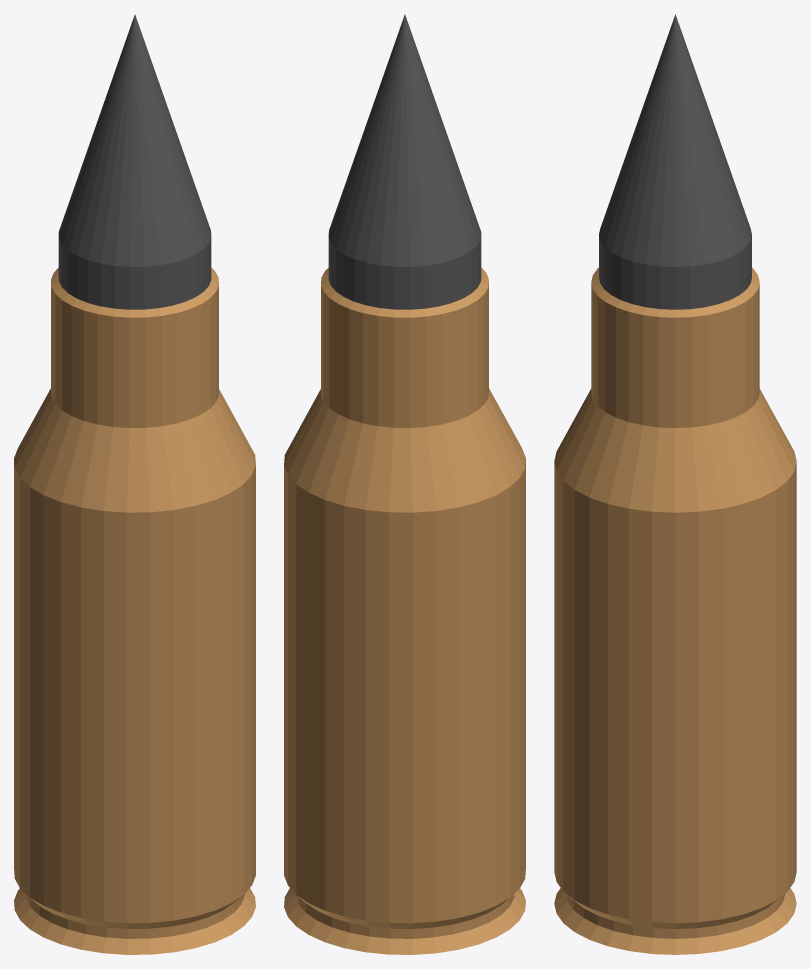
The model's file is minigun_bullet.glb.
The picture shows the model from 3 angles, left to right: view 1: azimuth 30°, elevation 25°; view 2: azimuth 150°, elevation 25°; view 3: azimuth 270°, elevation 25°; orthographic projection.
Parts seen in each view (by area): view 1: Circle; view 2: Circle; view 3: Circle.
Boxes of the visible parts, left/top/right/bottom form: Circle: left=14, top=14, right=255, bottom=954; Circle: left=284, top=14, right=525, bottom=954; Circle: left=554, top=14, right=796, bottom=954.
Bounding box in the file's own units: 0.7226 × 2.93 × 0.7226.
